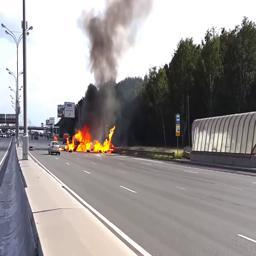fire: (64, 125, 115, 154)
